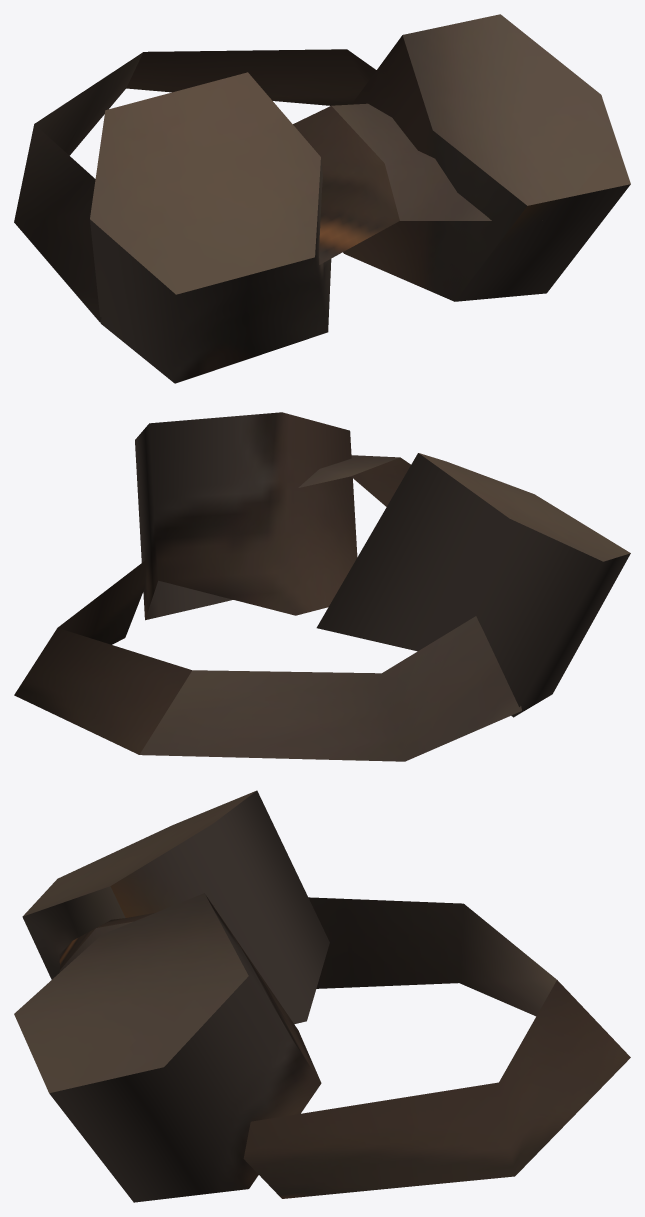
File: buckled_helm_drop.fbx
3 views of the same model, one above another, from view 1: azimuth 30°, elevation 25°; view 2: azimuth 150°, elevation 25°; view 3: azimuth 270°, elevation 25° (orthographic). The views are drawn at different scales.
Parts seen in each view (by area): view 1: Buckled_Set/helmet; view 2: Buckled_Set/helmet; view 3: Buckled_Set/helmet.
Boxes of the visible parts, x1,y1,x2,y2 form: Buckled_Set/helmet: (14, 14, 630, 383); Buckled_Set/helmet: (14, 412, 630, 761); Buckled_Set/helmet: (14, 790, 630, 1202).
Bounding box in the file's own units: 0.1938 × 0.0959 × 0.2057.
